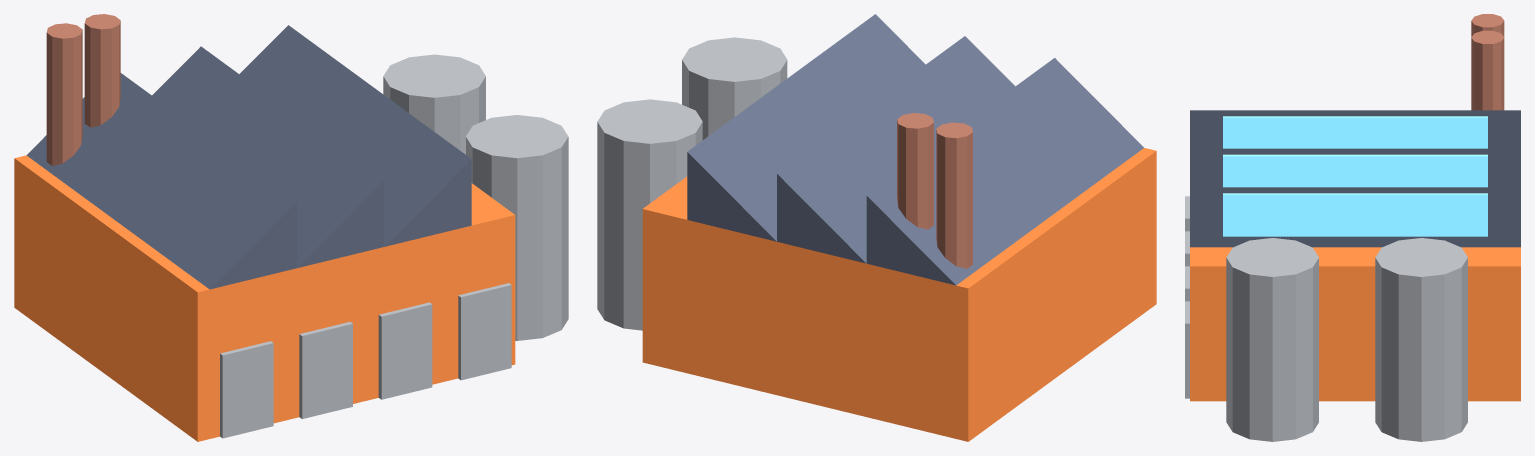
Rendered from factory_l.glb.
The picture shows the model from 3 angles, left to right: view 1: azimuth 30°, elevation 25°; view 2: azimuth 150°, elevation 25°; view 3: azimuth 270°, elevation 25°; orthographic projection. The views are drawn at different scales.
Parts seen in each view (by area): view 1: factory_l; view 2: factory_l; view 3: factory_l.
Part boxes in pixels (box(x1,y1,x2,y2)): factory_l: box(14, 14, 568, 441); factory_l: box(597, 14, 1156, 441); factory_l: box(1185, 14, 1520, 441).
Bounding box in the file's own units: 2.58 × 1.7 × 2.03.
